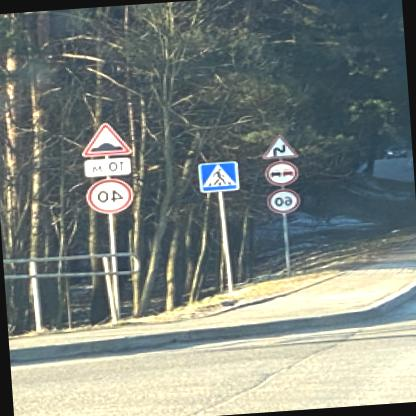crosswalk: (202, 158, 242, 190)
speedlimit: (90, 177, 137, 211), (269, 186, 304, 212)
